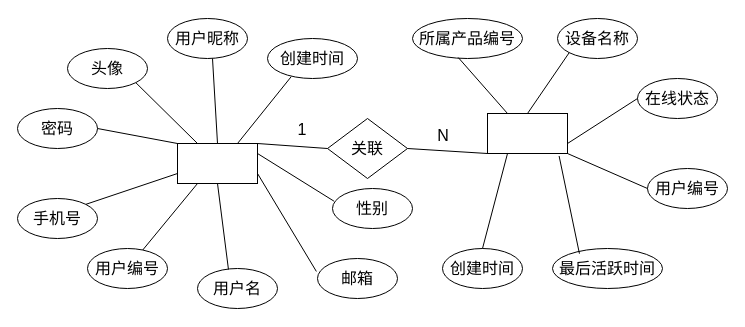
The diagram is 745 pixels wide and 327 high, and some of its shapes have lost their labels. Each missing label, with the centre of its shape:
用户: the point at 217,163
设备: the point at 527,133
